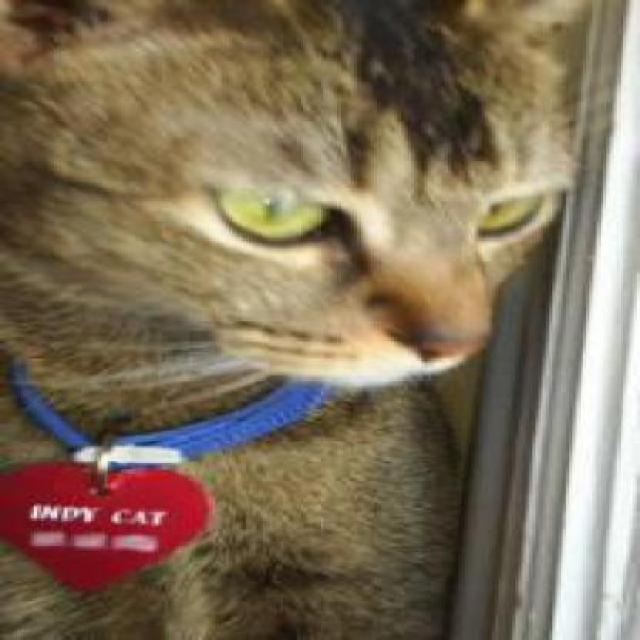cat: (0, 0, 583, 638)
